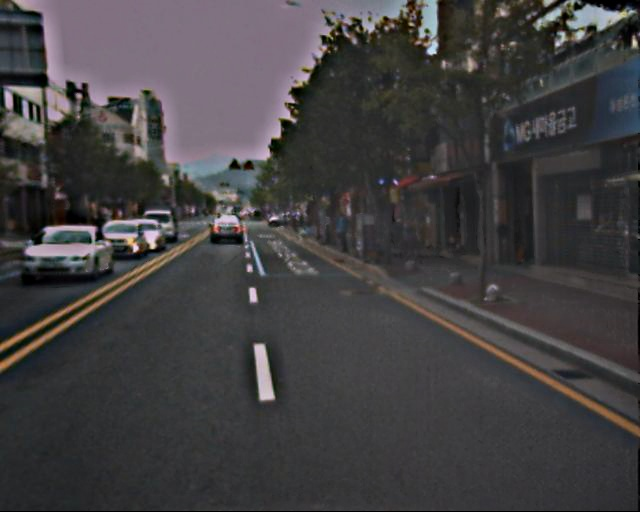person: (391, 215, 408, 256), (335, 212, 351, 252), (405, 219, 421, 258)
